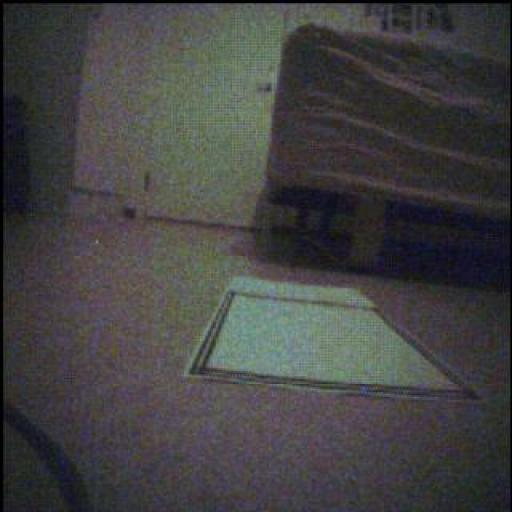pad: (187, 278, 478, 399)
